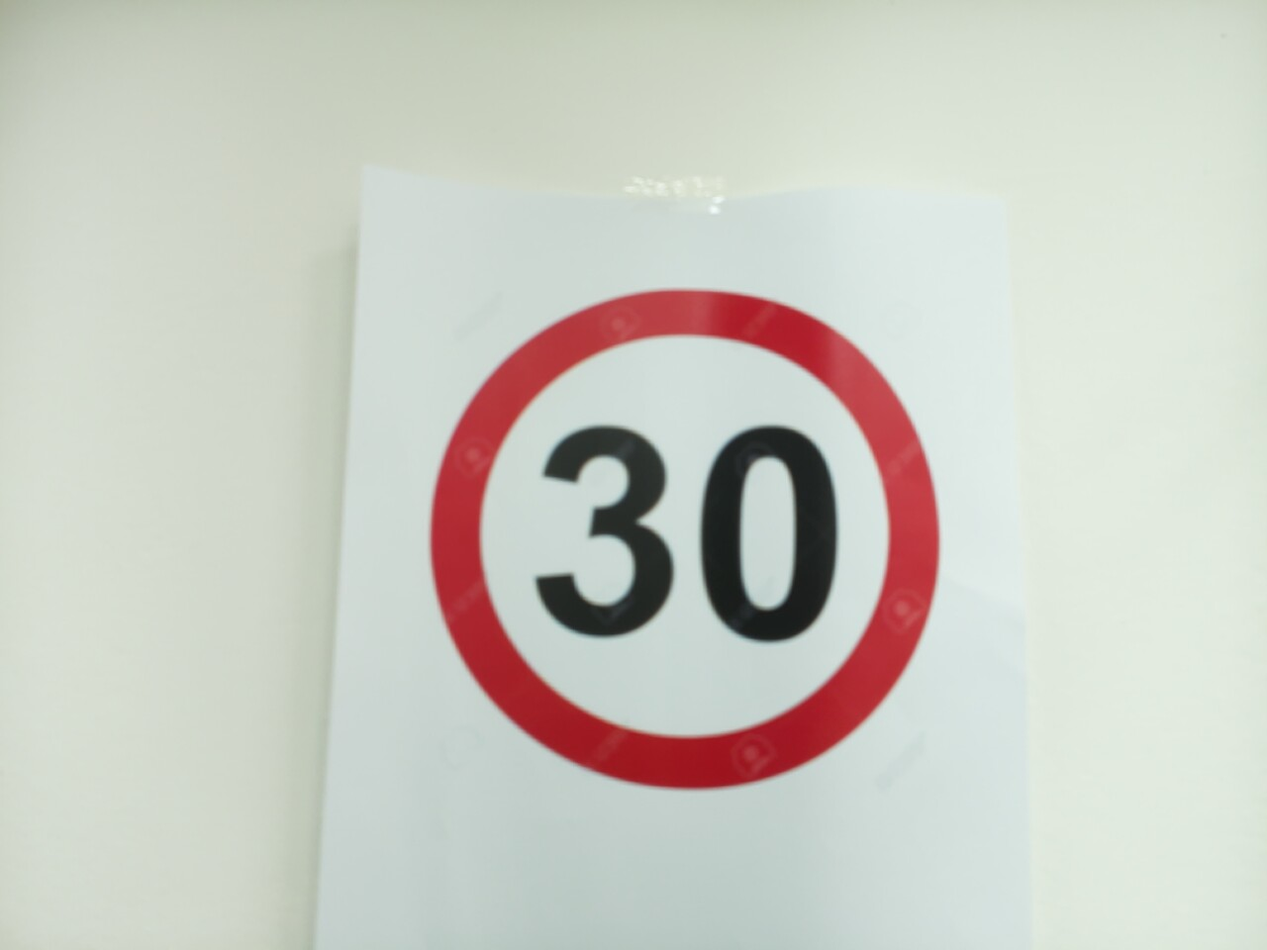speed_30: (417, 276, 953, 804)
